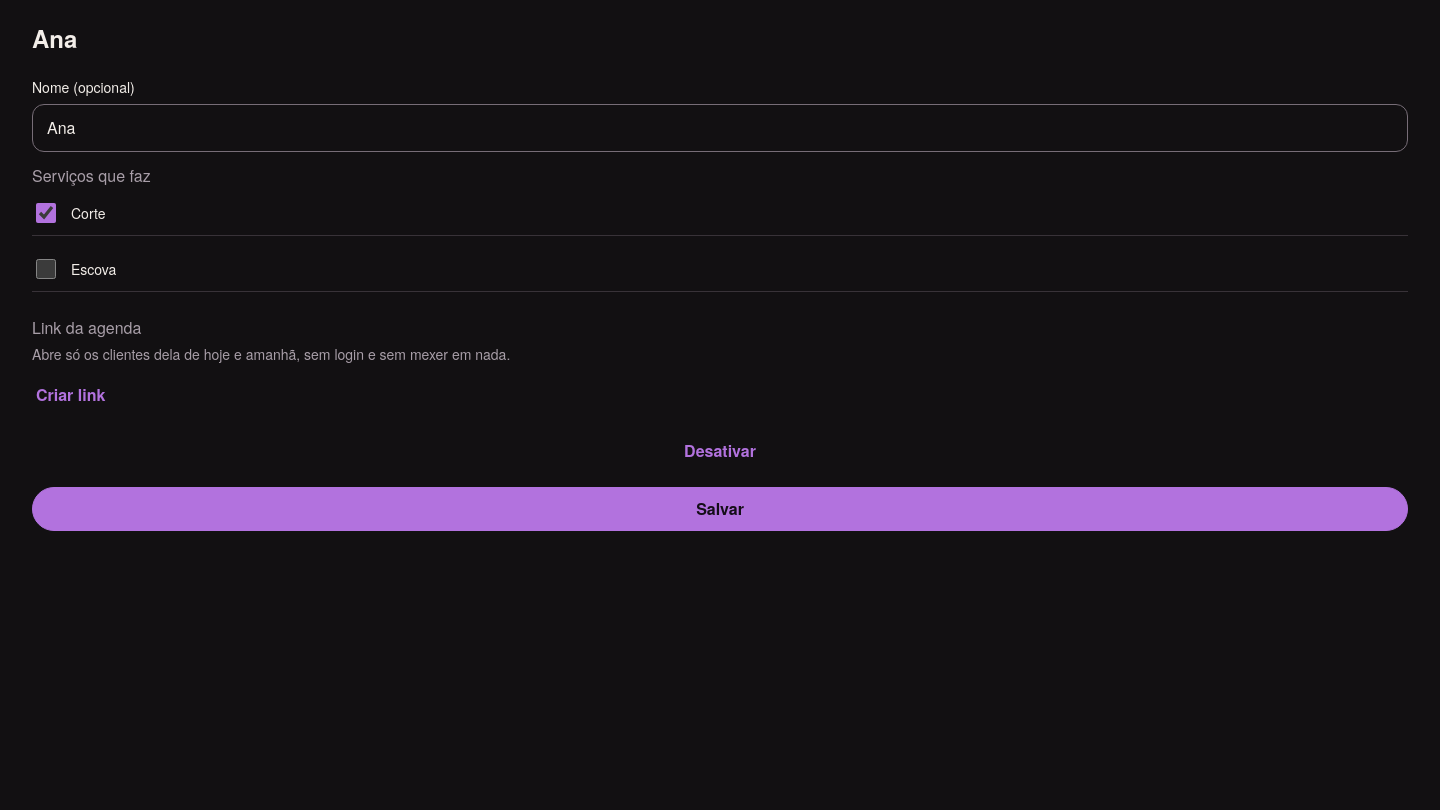
Scenario: PainelPessoa: editar › Desativar sendo a última ativa explica e não fecha
Click the button "Desativar" at (720, 451), box [680, 429, 760, 473]
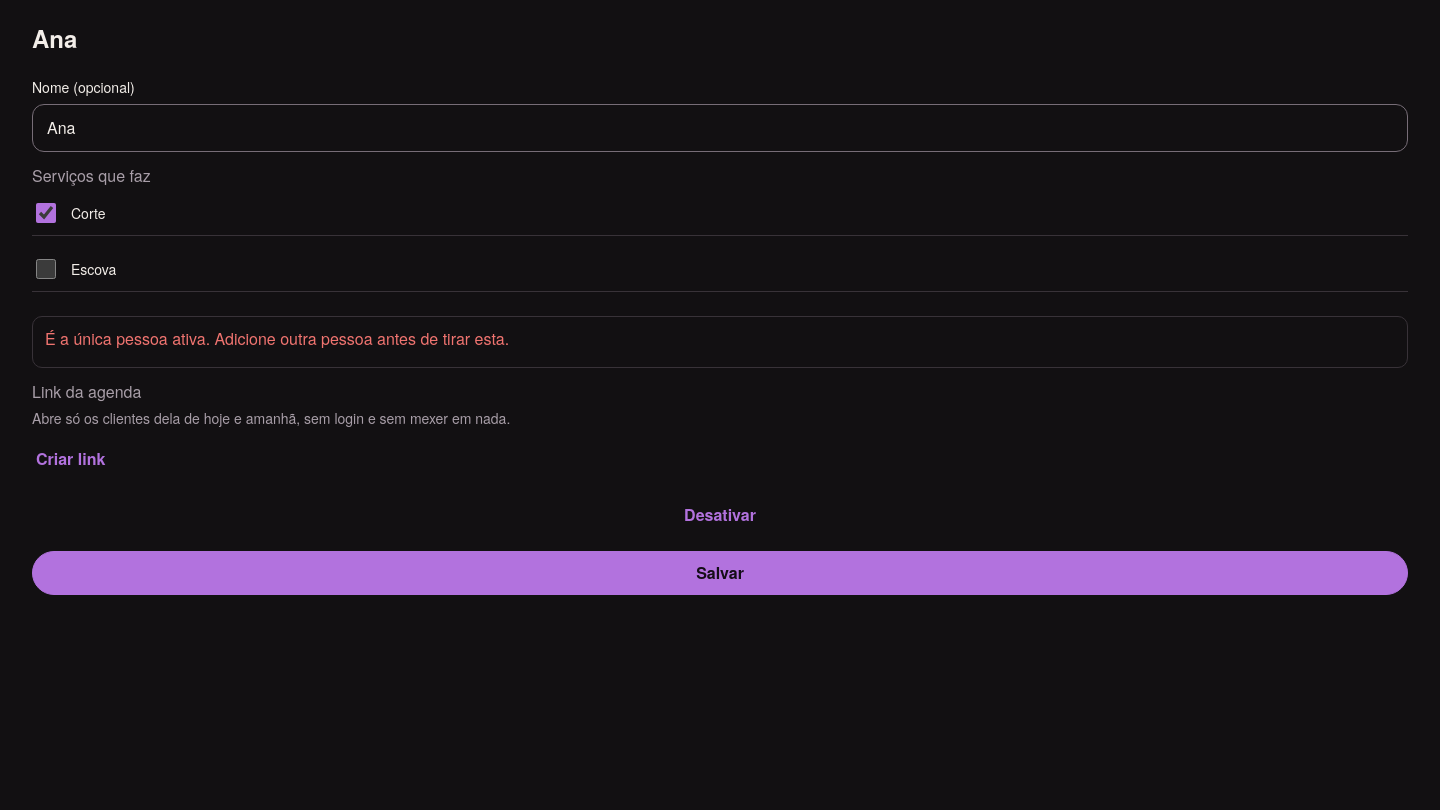
Check: the message shows "única pessoa ativa", box [45, 327, 509, 350]
